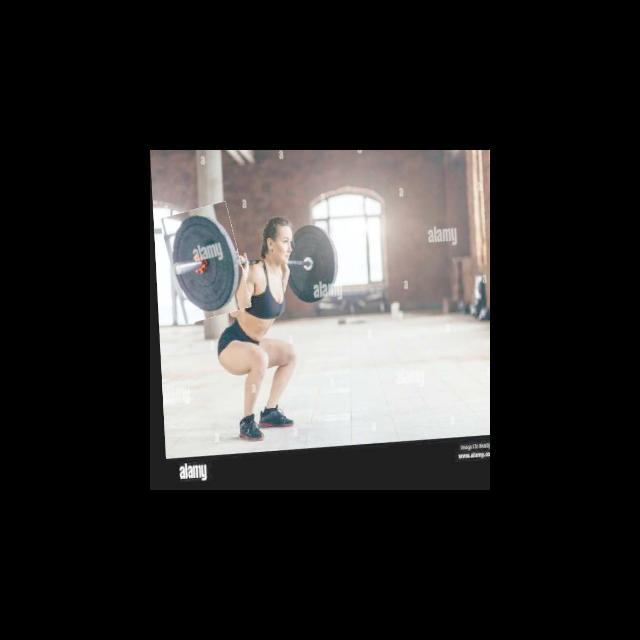barbell: (163, 204, 245, 323)
